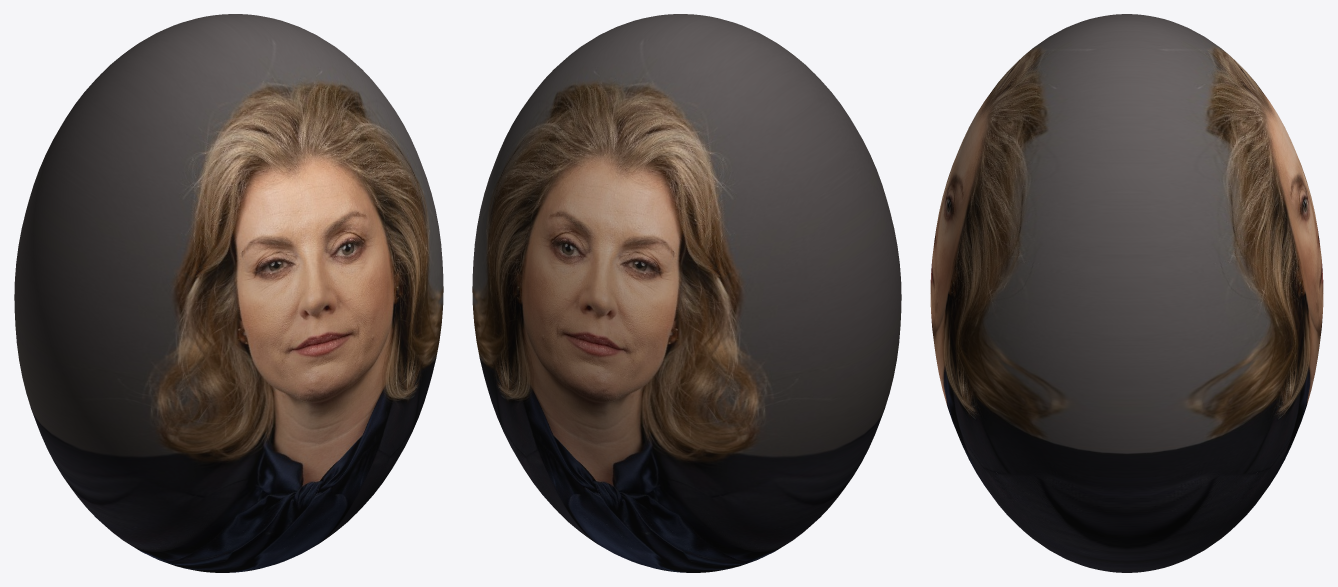
3 views of the same model, side by side, from view 1: azimuth 30°, elevation 25°; view 2: azimuth 150°, elevation 25°; view 3: azimuth 270°, elevation 25° (orthographic).
Visible parts, largest first — view 1: head; view 2: head; view 3: head.
Part boxes in pixels (left/top/right/bottom): head: left=14, top=14, right=443, bottom=572; head: left=472, top=14, right=901, bottom=572; head: left=930, top=14, right=1323, bottom=572.
Size of the model in its own units: 1.5 by 2 by 1.35.
Materials: 1 (1 with a texture image).
